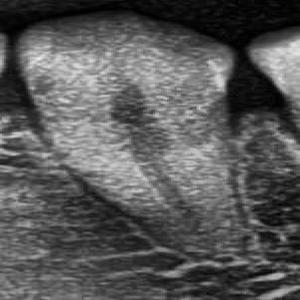tooth: (19, 12, 245, 253)
